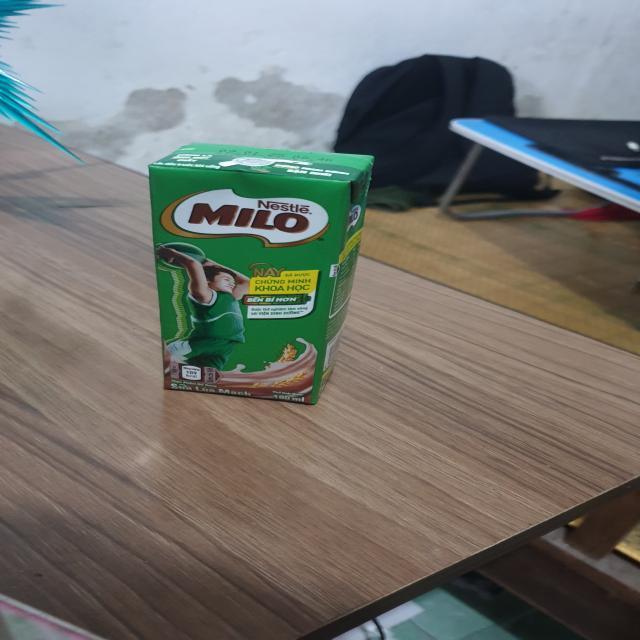Milo: (141, 139, 378, 411)
